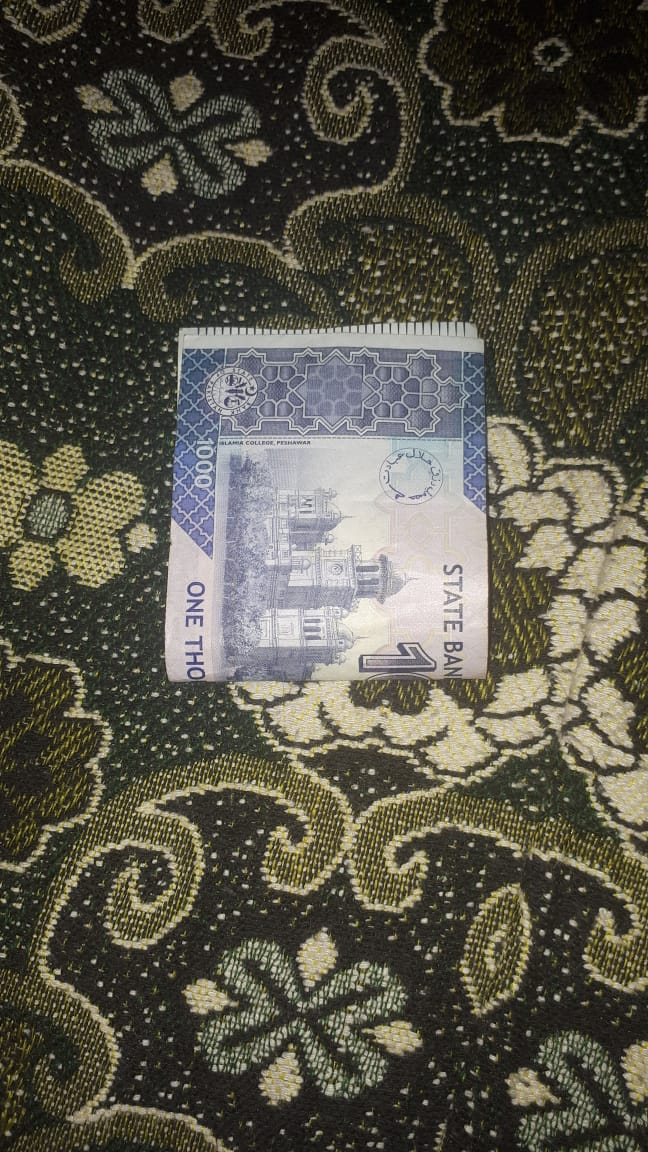1000 rupee: (150, 289, 515, 706)
